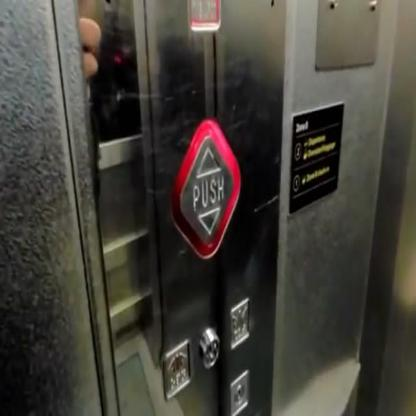close: (226, 291, 252, 355)
keyhole: (226, 366, 252, 415), (198, 325, 220, 370)
open: (158, 336, 193, 406)
text_push: (167, 112, 242, 262)
